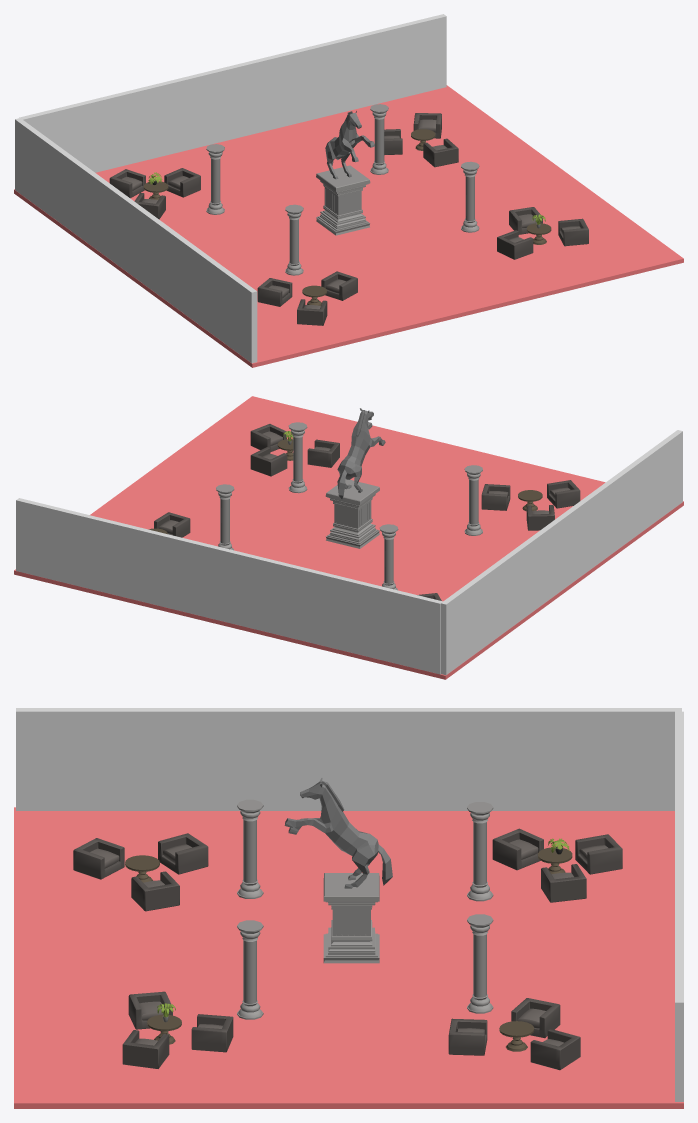
File: lobbyV1.fbx
3 renders of one model, top to bottom at view 1: azimuth 30°, elevation 25°; view 2: azimuth 150°, elevation 25°; view 3: azimuth 270°, elevation 25°, orthographic. The views are drawn at different scales.
Visible parts, largest first — view 1: Cube.003, Wall.001, Wall, Horse, Couch_Small2, Couch_Small2.005, Couch_Small2.011, Couch_Small2.008, Column_Round3.001, Column_Round3.002, Column_Round3.004, Column_Round3.003; view 2: Cube.003, Wall.001, Wall, Horse, Couch_Small2.005, Couch_Small2, Column_Round3.004, Column_Round3.002, Column_Round3.003, Column_Round3.001, Couch_Small2.008; view 3: Cube.003, Wall, Horse, Couch_Small2, Couch_Small2.011, Couch_Small2.008, Couch_Small2.005, Wall.001, Column_Round3.002, Column_Round3.004, Column_Round3.001, Column_Round3.003.
Boxes of the visible parts, box(x1,y1,x2,y2) form: Cube.003: box(14, 85, 683, 367); Wall.001: box(19, 14, 446, 172); Wall: box(15, 118, 257, 363); Horse: box(316, 111, 374, 235); Couch_Small2: box(257, 271, 357, 325); Couch_Small2.005: box(497, 207, 588, 259); Couch_Small2.011: box(109, 168, 200, 219); Couch_Small2.008: box(384, 113, 458, 167); Column_Round3.001: box(370, 104, 388, 174); Column_Round3.002: box(285, 204, 303, 275); Column_Round3.004: box(461, 161, 479, 232); Column_Round3.003: box(206, 144, 224, 214); Cube.003: box(14, 396, 683, 679); Wall.001: box(16, 498, 442, 674); Wall: box(441, 430, 682, 675); Horse: box(325, 408, 385, 548); Couch_Small2.005: box(250, 424, 339, 476); Couch_Small2: box(481, 480, 580, 530); Column_Round3.004: box(288, 422, 307, 493); Column_Round3.002: box(464, 465, 482, 535); Column_Round3.003: box(379, 524, 398, 590); Column_Round3.001: box(216, 484, 234, 550); Couch_Small2.008: box(148, 512, 190, 537); Cube.003: box(14, 807, 683, 1108); Wall: box(16, 708, 681, 810); Horse: box(284, 778, 392, 963); Couch_Small2: box(73, 833, 208, 911); Couch_Small2.011: box(492, 828, 622, 902); Couch_Small2.008: box(448, 998, 580, 1070); Couch_Small2.005: box(122, 991, 233, 1068); Wall.001: box(675, 711, 683, 1101); Column_Round3.002: box(237, 799, 263, 898); Column_Round3.004: box(237, 920, 263, 1019); Column_Round3.001: box(467, 914, 493, 1013); Column_Round3.003: box(467, 802, 493, 901).
Bounding box in the file's own units: 3888 × 1077 × 3718.
